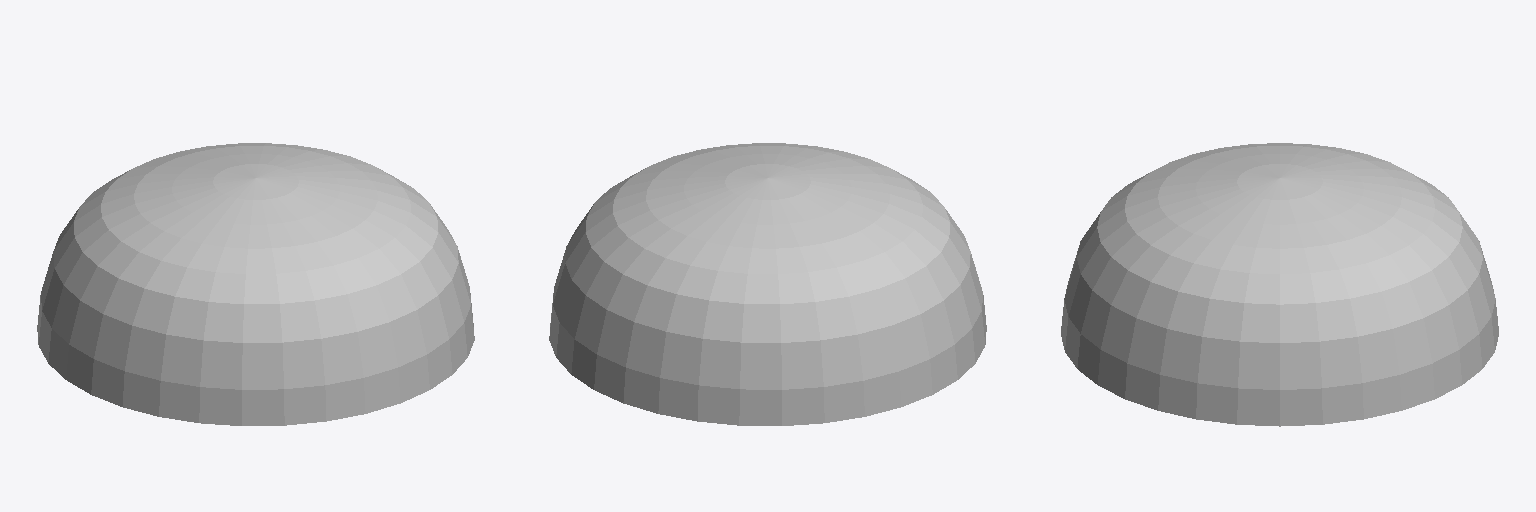
File: BunTp.obj
3 renders of one model, left to right at view 1: azimuth 30°, elevation 25°; view 2: azimuth 150°, elevation 25°; view 3: azimuth 270°, elevation 25°, orthographic.
Parts seen in each view (by area): view 1: TopBun_Sphere.001; view 2: TopBun_Sphere.001; view 3: TopBun_Sphere.001.
Part boxes in pixels (x1,y1,x2,y2): TopBun_Sphere.001: (37, 143, 474, 425); TopBun_Sphere.001: (549, 143, 986, 425); TopBun_Sphere.001: (1061, 143, 1498, 426).
Bounding box in the file's own units: 1.99 × 0.7811 × 1.99.